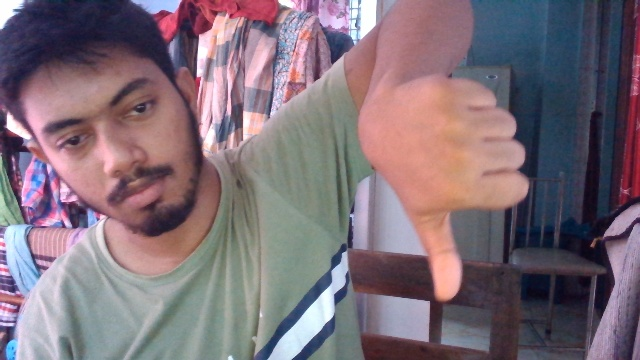no: (337, 72, 536, 298)
